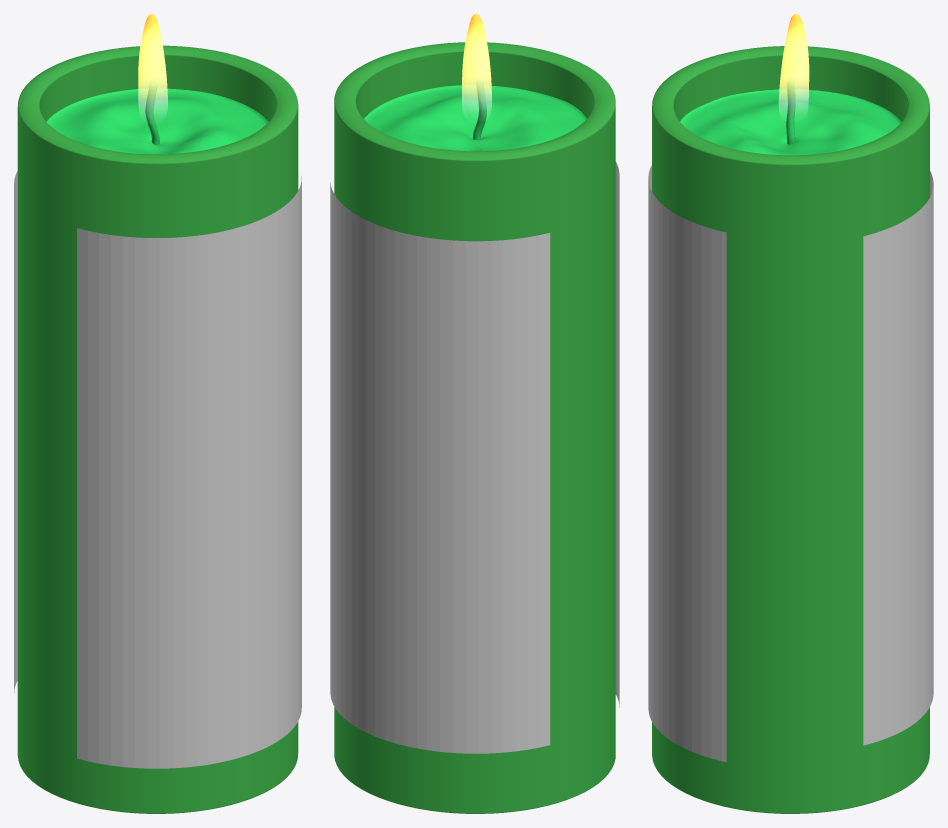
File: singleCandleAnimatedFlame.glb
The picture shows the model from 3 angles, left to right: view 1: azimuth 30°, elevation 25°; view 2: azimuth 150°, elevation 25°; view 3: azimuth 270°, elevation 25°; orthographic projection.
Visible parts, largest first — view 1: Label2, glass, wax, Flame.001, Label1; view 2: Label1, glass, wax, Label2, Flame.001; view 3: glass, Label2, Label1, wax, Flame.001.
Boxes of the visible parts, left/top/right/bottom form: Label2: left=77, top=176, right=301, bottom=768; glass: left=17, top=45, right=298, bottom=813; wax: left=46, top=84, right=268, bottom=154; Flame.001: left=138, top=14, right=167, bottom=115; Label1: left=14, top=171, right=17, bottom=692; Label1: left=330, top=182, right=550, bottom=753; glass: left=334, top=42, right=615, bottom=813; wax: left=364, top=83, right=586, bottom=151; Label2: left=615, top=162, right=619, bottom=707; Flame.001: left=462, top=14, right=491, bottom=114; glass: left=652, top=46, right=929, bottom=813; Label2: left=648, top=165, right=726, bottom=761; Label1: left=863, top=171, right=933, bottom=745; wax: left=680, top=83, right=901, bottom=155; Flame.001: left=778, top=14, right=809, bottom=114.
Size of the model in its own units: 0.7465 by 2.17 by 0.7589.
Materials: 5 (1 with a texture image).
